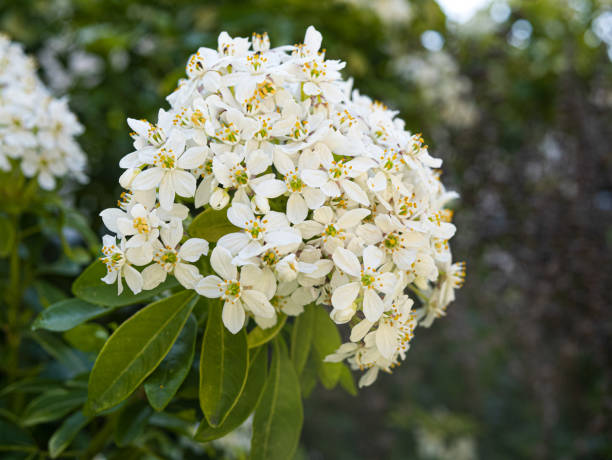flower: (200, 246, 279, 332), (133, 137, 209, 212), (214, 201, 303, 261), (330, 243, 398, 320), (301, 141, 376, 208), (210, 150, 286, 215), (255, 150, 326, 216), (144, 221, 212, 288), (357, 216, 423, 271), (88, 231, 142, 296), (293, 208, 374, 248), (369, 288, 413, 359), (226, 44, 277, 97), (204, 112, 258, 162), (285, 56, 348, 95), (126, 112, 184, 152), (117, 206, 164, 249), (181, 100, 223, 144)
